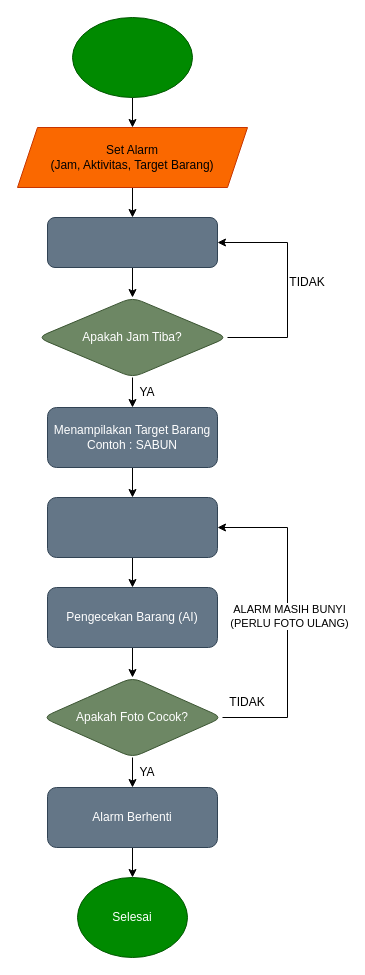
The diagram is 365 pixels wide and 975 high, and some of its shapes have lost their labels. The centre of each missing label's shape, as x and y in pixels:
Menunggu Alarm: the point at 132,242
Mulai: the point at 132,57
User Mengambil Foto SABUN: the point at 132,527
